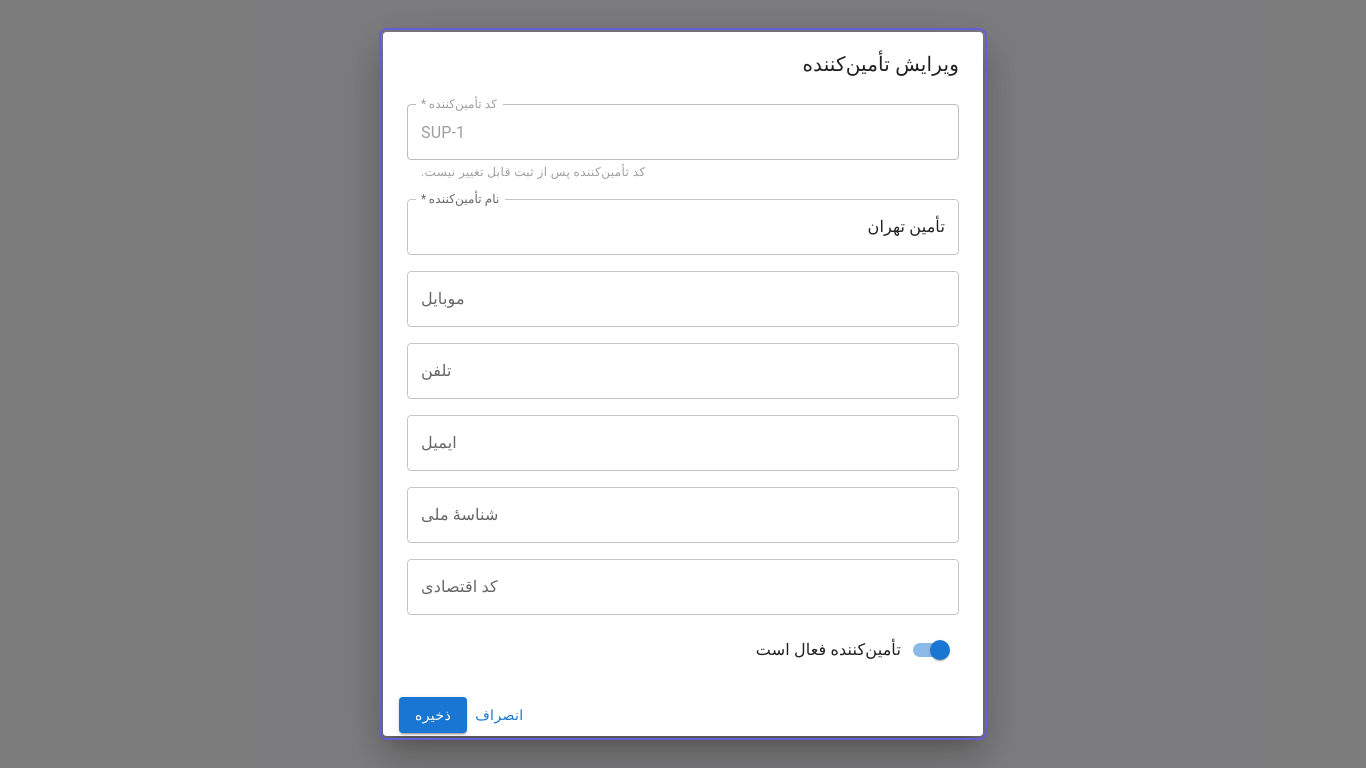
Test case: SupplierDialog › warns that deactivation preserves history and never deletes
This screenshot has width=1366, height=768.
Click the switch labelled "تأمین‌کننده فعال است": click(853, 650) [756,640,950,660]
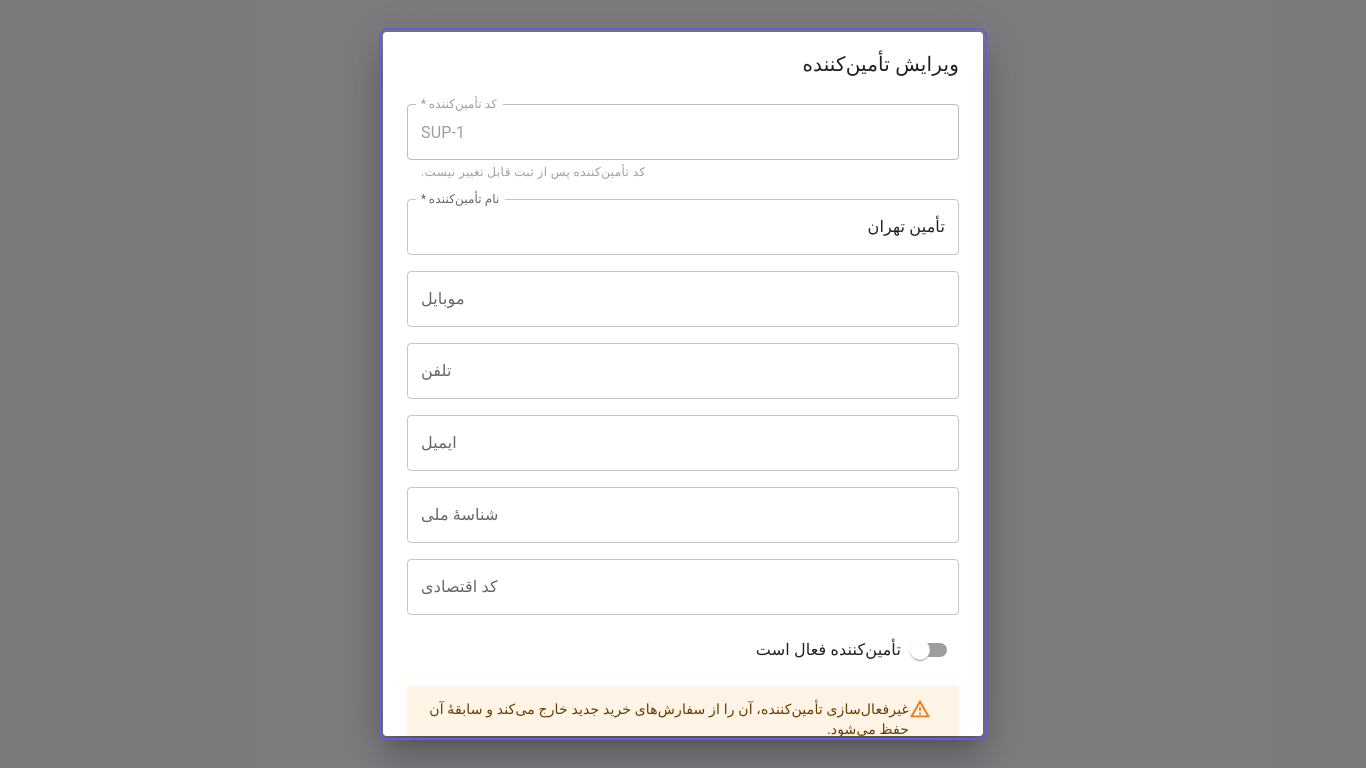
Result: the text "غیرفعال‌سازی تأمین‌کننده" is shown at [429,701,909,736]
